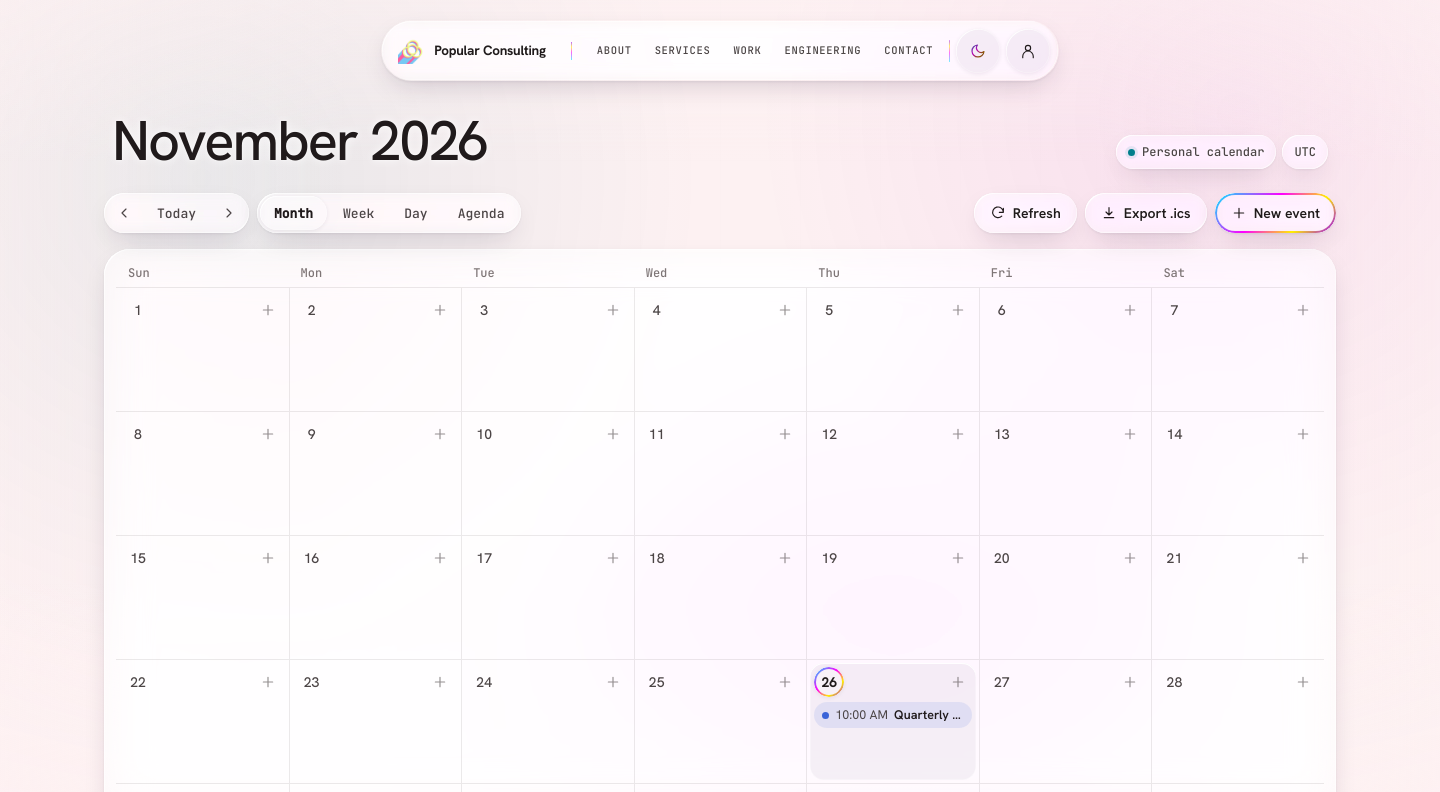
Scenario: CalendarPage › renders Month, Week, Day, and Agenda views with provider badge and export link
This screenshot has width=1440, height=792.
Expected: the text "Quarterly Planning" is shown, 894,709 -> 963,721
Expected: the text "Personal calendar" is shown, 1116,135 -> 1276,169
Click the button "Week".
click(359, 213)  # box 329,196 -> 388,230
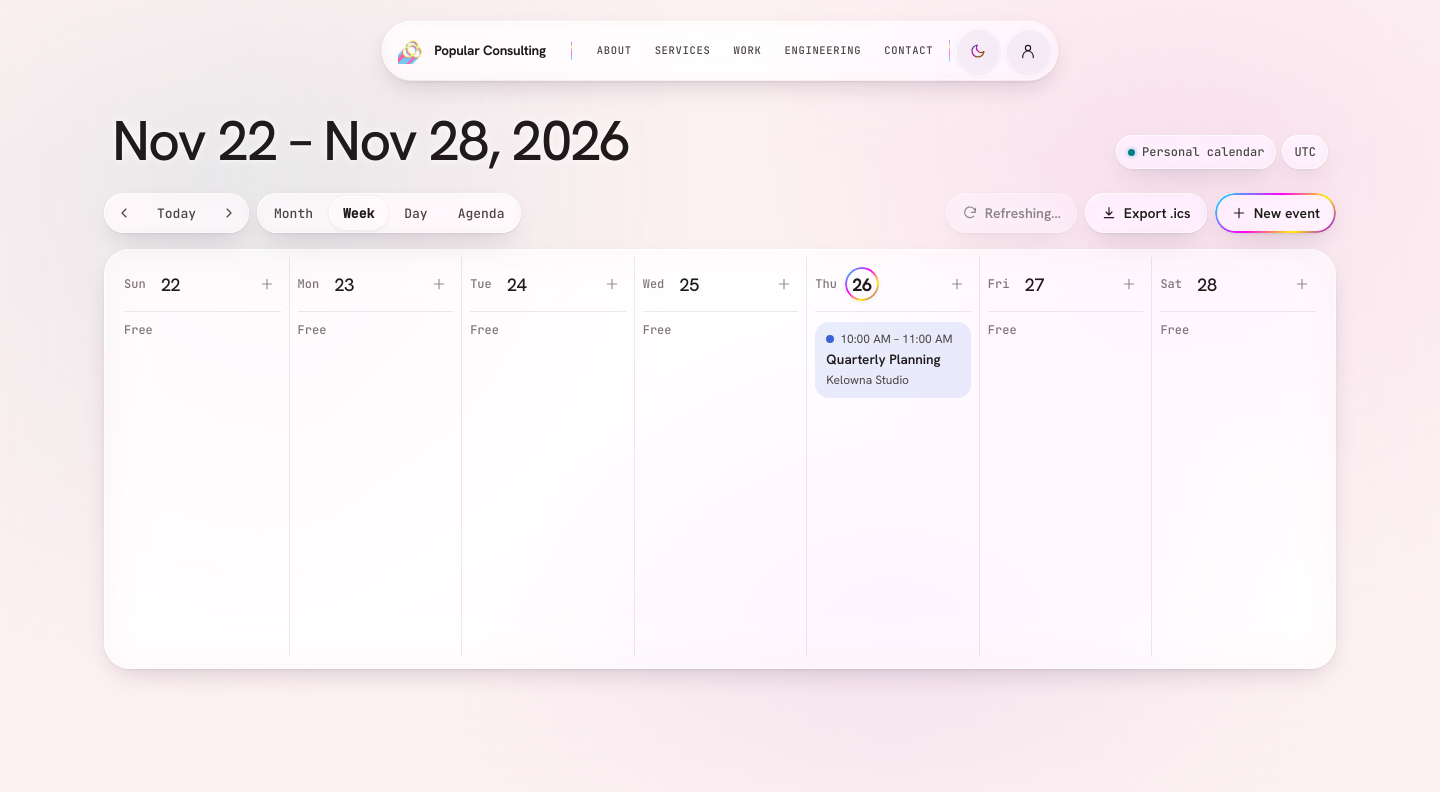
Result: the element named "Week schedule" is shown at 116,257 -> 1324,657
Click the button "Day".
click(416, 213)  # box 390,196 -> 442,230
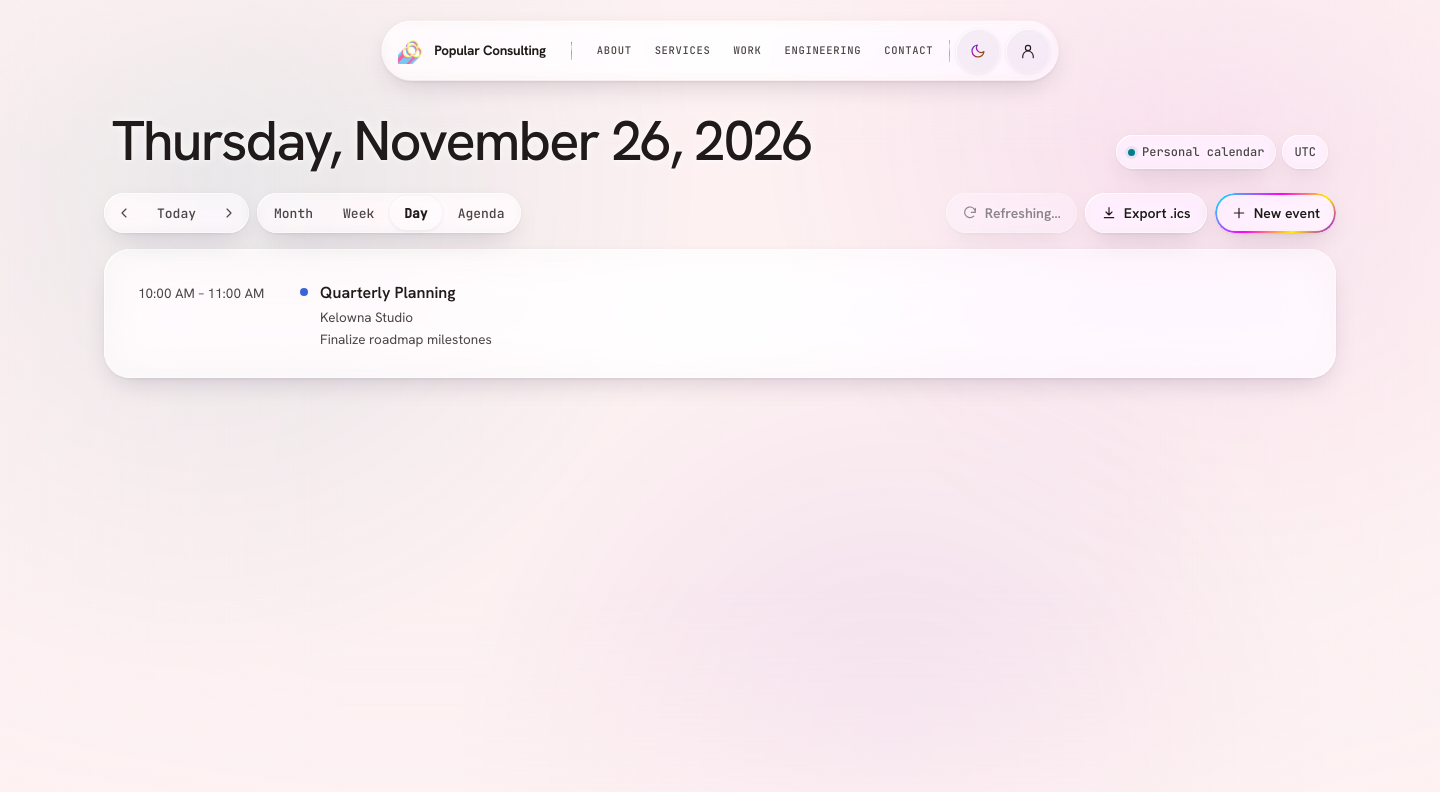
Expected: the text "Quarterly Planning" is shown, 320,282 -> 456,303
Result: the element named "Day schedule" is shown at 124,269 -> 1316,362
Click the button "Agenda".
click(481, 213)  # box 444,196 -> 518,230
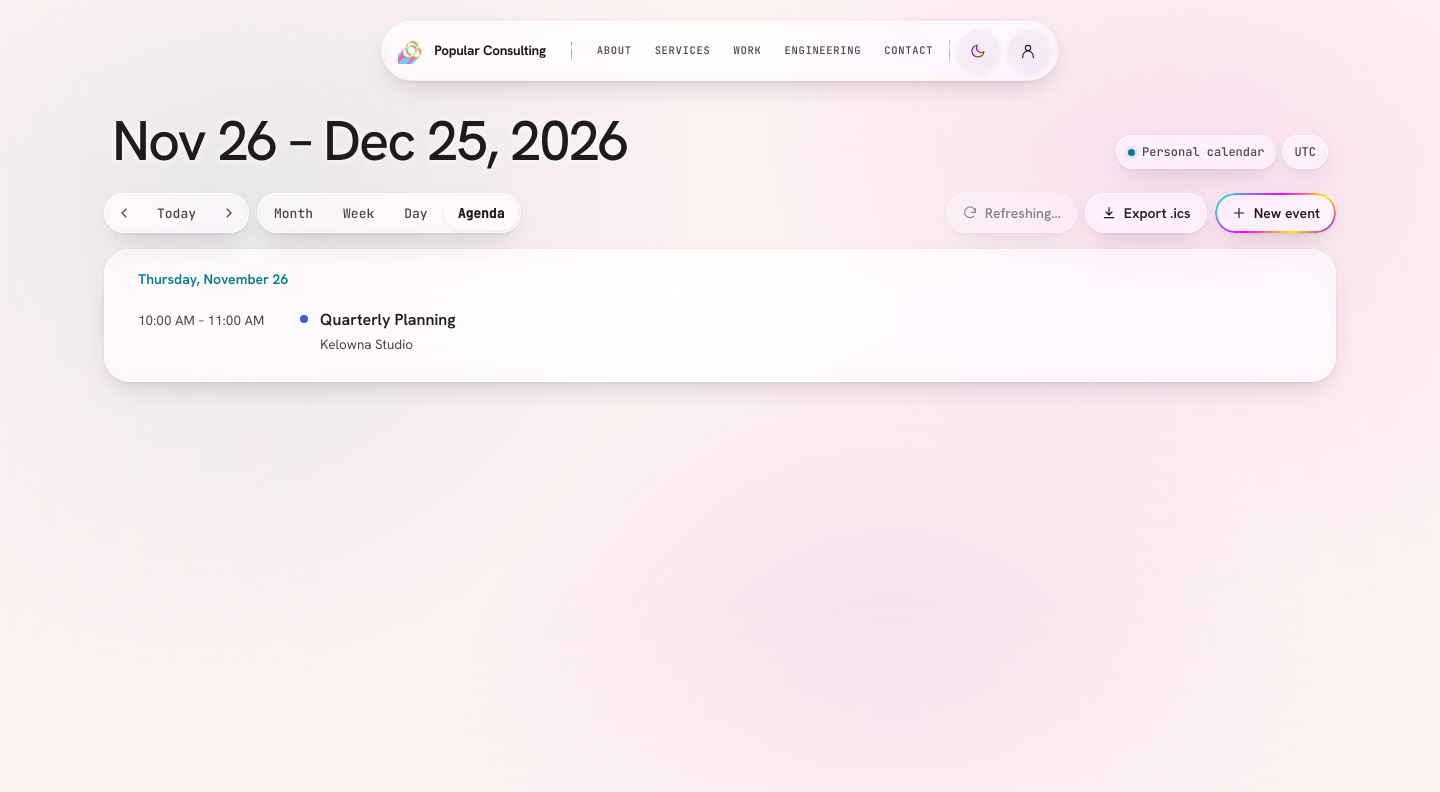
Expected: the text "Quarterly Planning" is shown, 320,309 -> 456,330
Result: the element named "Agenda schedule" is shown at 124,269 -> 1316,366
Click the button named "Next".
click(229, 213)  # box 212,196 -> 246,230
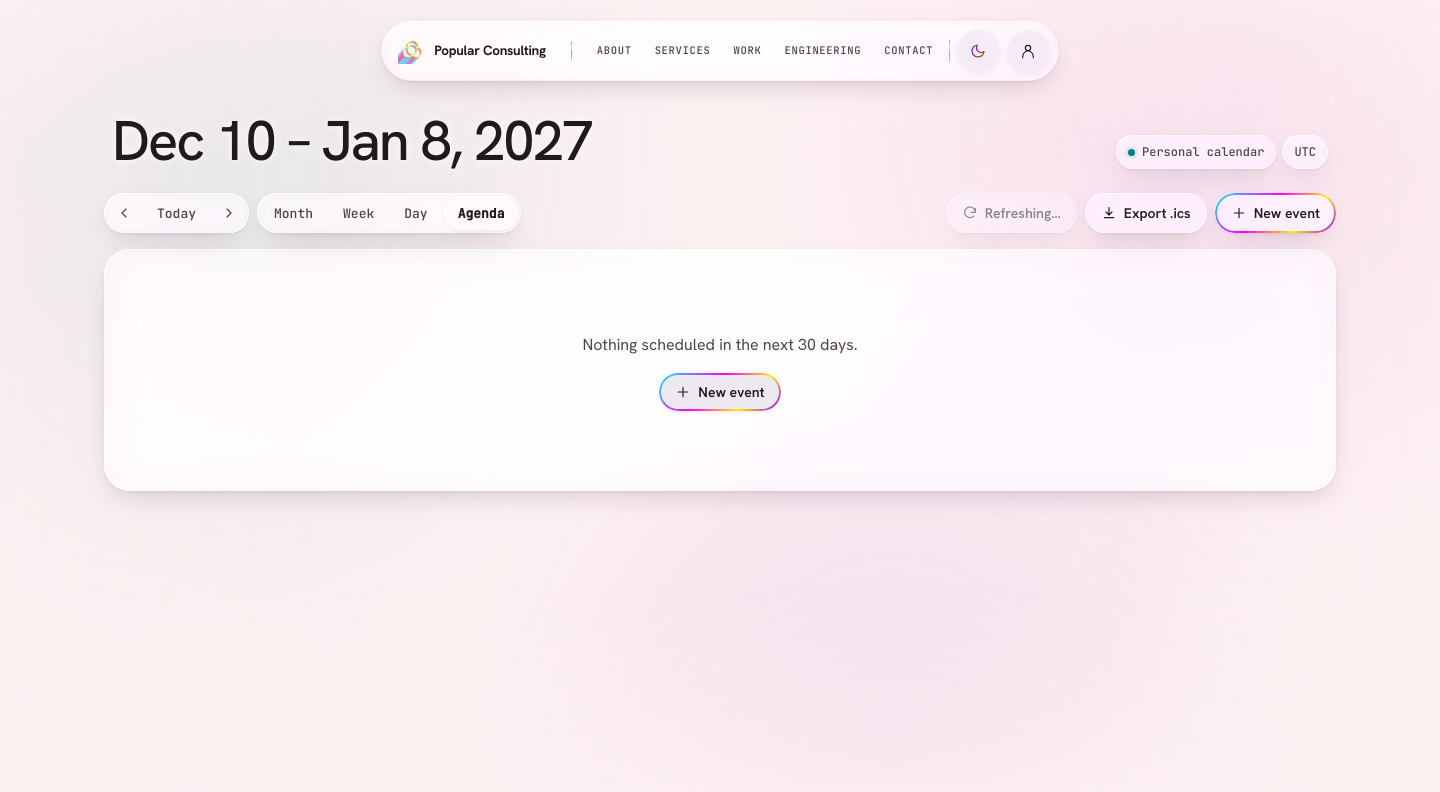
Click the button "Today".
click(176, 213)  # box 143,196 -> 210,230
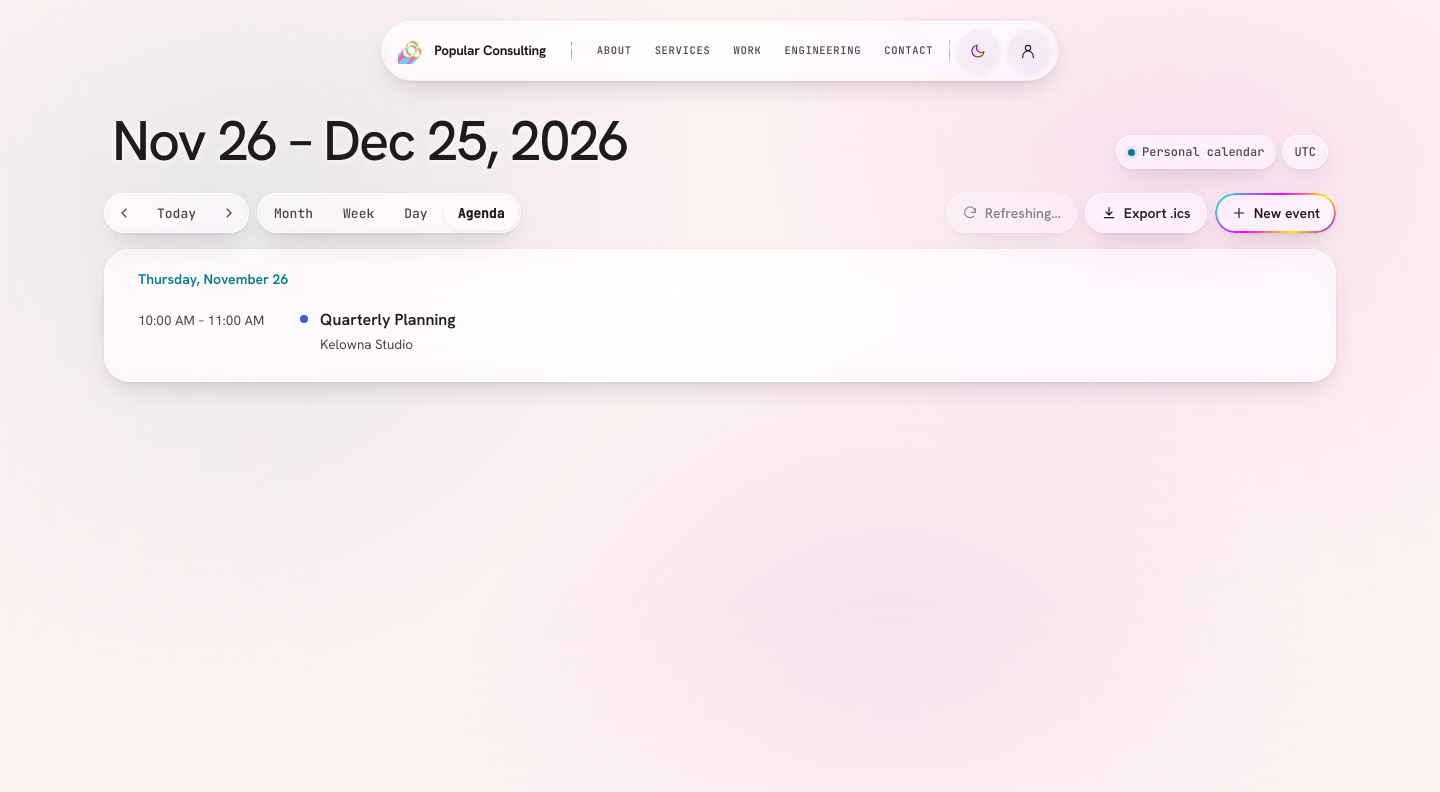
Click the button "Month".
click(294, 213)  # box 260,196 -> 327,230
(page scrolled)
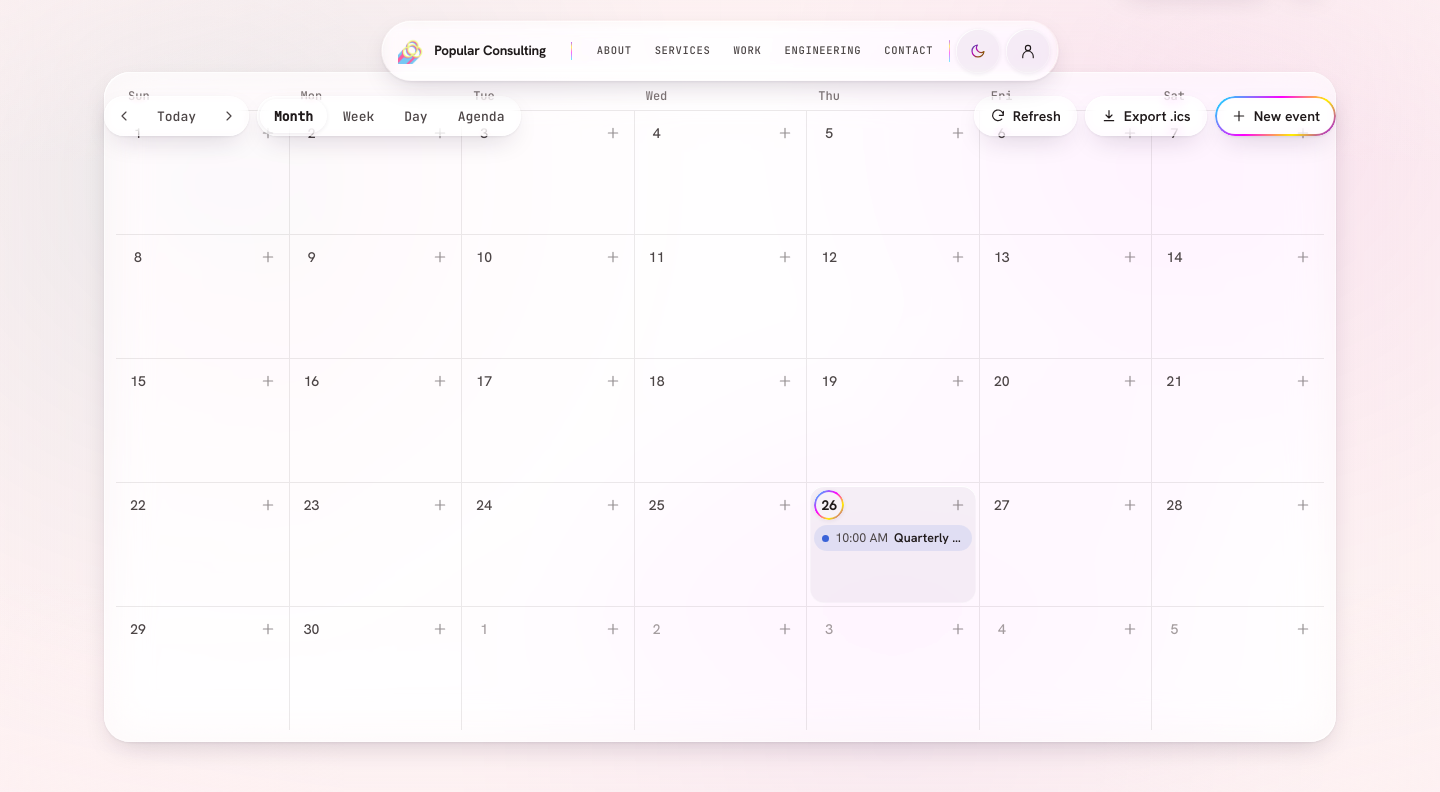
Result: the element named "Month schedule" is shown
